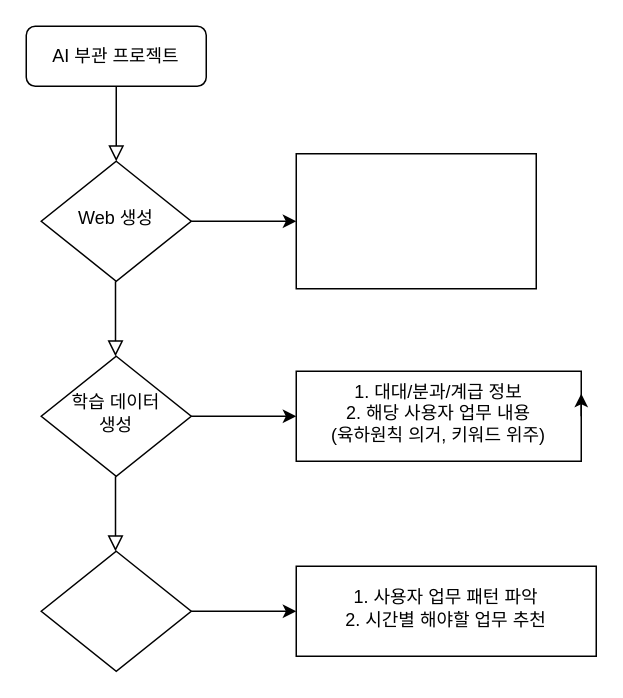
Image size: 623x698. Some labels were removed from this diagram. Here are the shapes that lost their labels. From the top down, the centre of each, then its label:
At (415,220): "1. 로그인 화면 2. 메인화면 - 완료 3. 업무 작성 페이지 - 완료 4. 게시판 - 완료 5. 프로필 변경".
At (115,610): "학습 모델 생성".
